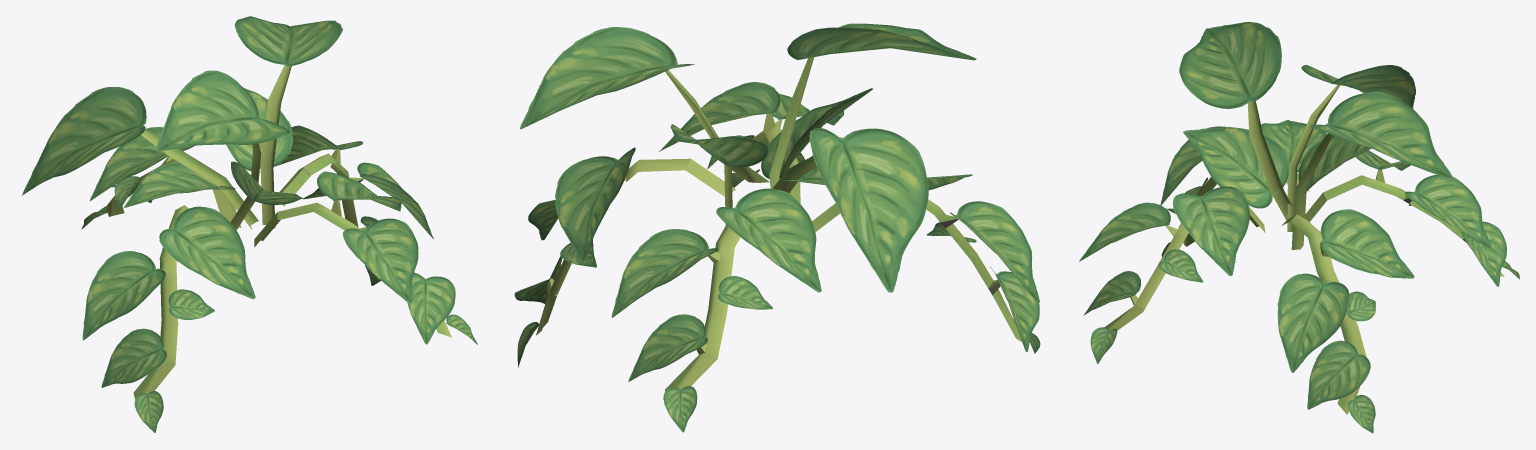
File: Pilea.fbx
3 views of the same model, side by side, from view 1: azimuth 30°, elevation 25°; view 2: azimuth 150°, elevation 25°; view 3: azimuth 270°, elevation 25° (orthographic). The views are drawn at different scales.
Visible parts, largest first — view 1: Pilea; view 2: Pilea; view 3: Pilea.
Part boxes in pixels (x1,y1,x2,y2): Pilea: (21, 16, 477, 432); Pilea: (514, 23, 1040, 432); Pilea: (1079, 22, 1519, 433).
Bounding box in the file's own units: 57.08 × 43.66 × 58.41.
Materials: 1 (1 with a texture image).
